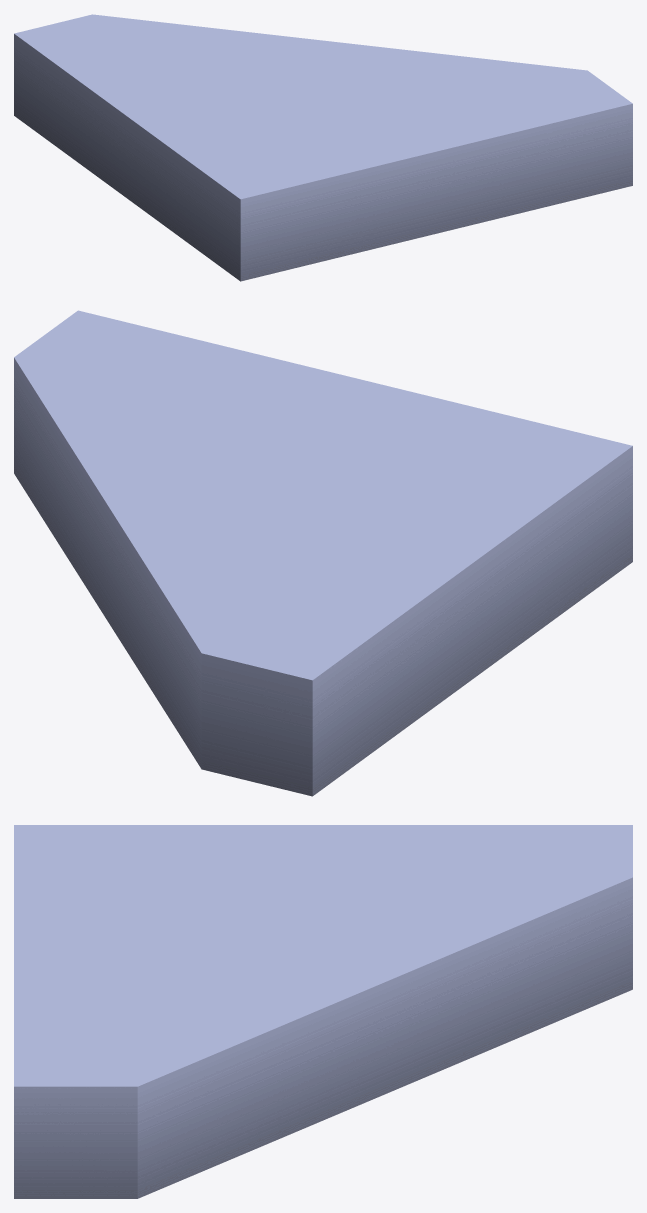
Rendered from floor-thick-corner-diagonal.glb.
The picture shows the model from 3 angles, top to bottom: view 1: azimuth 30°, elevation 25°; view 2: azimuth 150°, elevation 25°; view 3: azimuth 270°, elevation 25°; orthographic projection. The views are drawn at different scales.
Parts seen in each view (by area): view 1: floor-thick-corner-diagonal; view 2: floor-thick-corner-diagonal; view 3: floor-thick-corner-diagonal.
Part boxes in pixels (x1,y1,x2,y2): floor-thick-corner-diagonal: (14,14,632,281); floor-thick-corner-diagonal: (14,310,632,796); floor-thick-corner-diagonal: (14,825,632,1198).
Bounding box in the file's own units: 1 × 0.2 × 1.
1 material, 1 textured.
